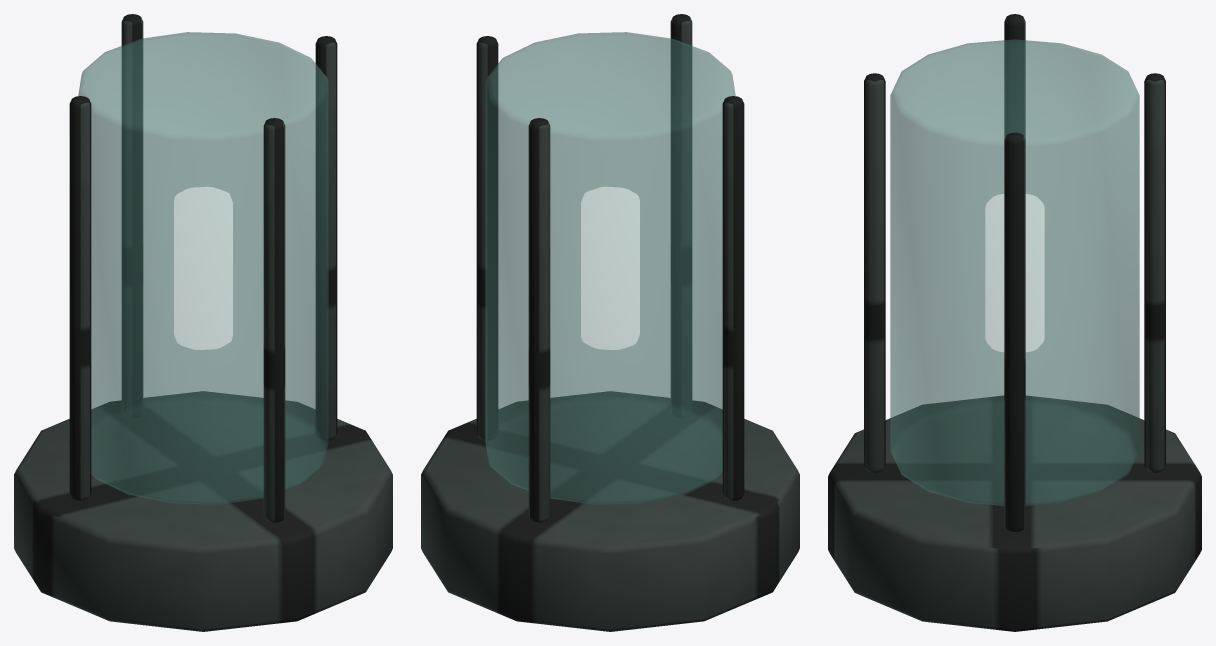
The model's file is WK_LIGHT_CAGE_A_01.glb.
The picture shows the model from 3 angles, left to right: view 1: azimuth 30°, elevation 25°; view 2: azimuth 150°, elevation 25°; view 3: azimuth 270°, elevation 25°; orthographic projection.
Visible parts, largest first — view 1: WK_LIGHT_CAGE_A_01; view 2: WK_LIGHT_CAGE_A_01; view 3: WK_LIGHT_CAGE_A_01.
Boxes of the visible parts, x1,y1,x2,y2 form: WK_LIGHT_CAGE_A_01: (14, 14, 392, 631); WK_LIGHT_CAGE_A_01: (421, 14, 799, 631); WK_LIGHT_CAGE_A_01: (828, 14, 1201, 631).
Size of the model in its own units: 0.24 by 0.34 by 0.24.
3 materials, 1 textured.
